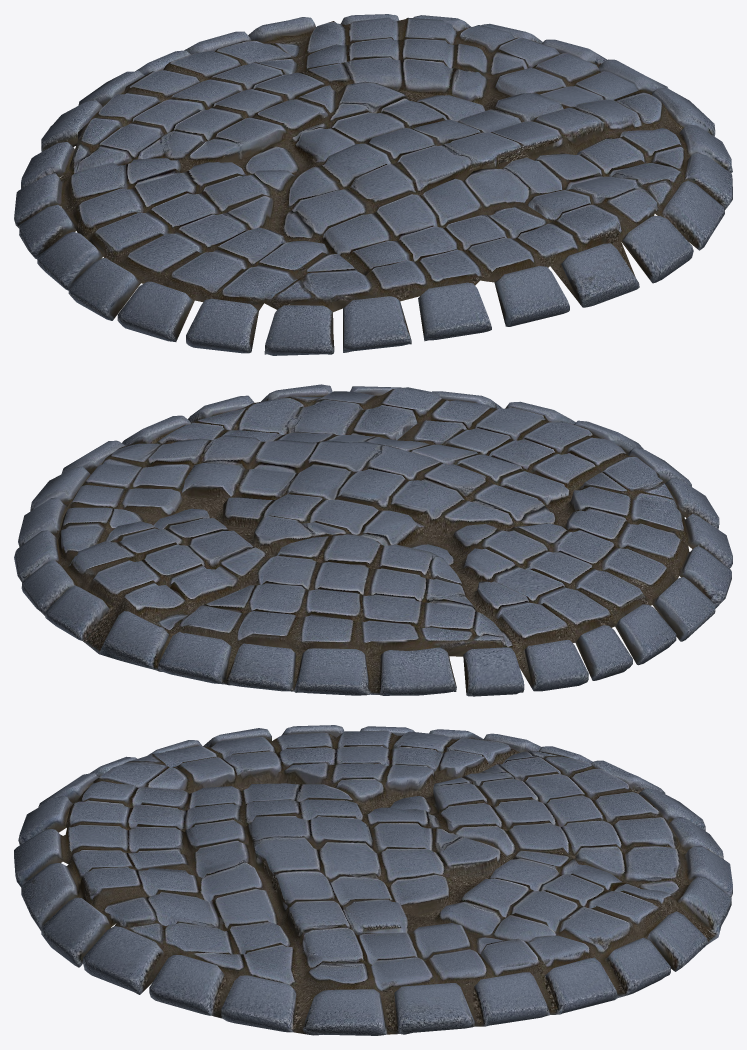
Rendered from tripo_convert_39621bf8-50f7-47df-b422-6a776fbfb13f.fbx.
The picture shows the model from 3 angles, top to bottom: view 1: azimuth 30°, elevation 25°; view 2: azimuth 150°, elevation 25°; view 3: azimuth 270°, elevation 25°; orthographic projection. The views are drawn at different scales.
Parts seen in each view (by area): view 1: tripo_node_39621bf8; view 2: tripo_node_39621bf8; view 3: tripo_node_39621bf8.
Boxes of the visible parts, x1,y1,x2,y2 form: tripo_node_39621bf8: (14, 14, 732, 355); tripo_node_39621bf8: (14, 384, 732, 696); tripo_node_39621bf8: (14, 725, 732, 1035).
Size of the model in its own units: 0.998 by 0.1309 by 0.9746.
1 material, 1 textured.
